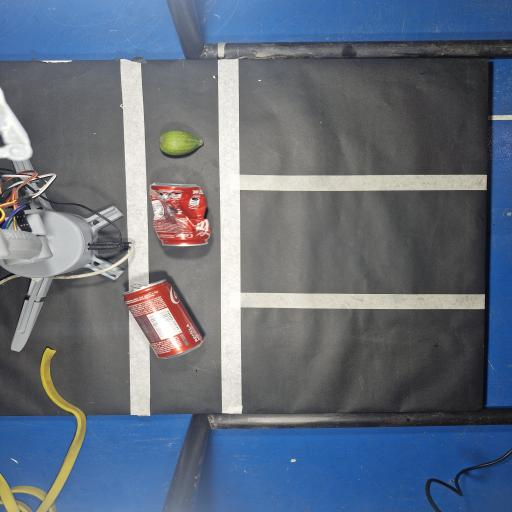higo: (159, 131, 203, 155)
lata: (123, 281, 203, 358)
lata_defectuoso: (150, 183, 210, 246)
